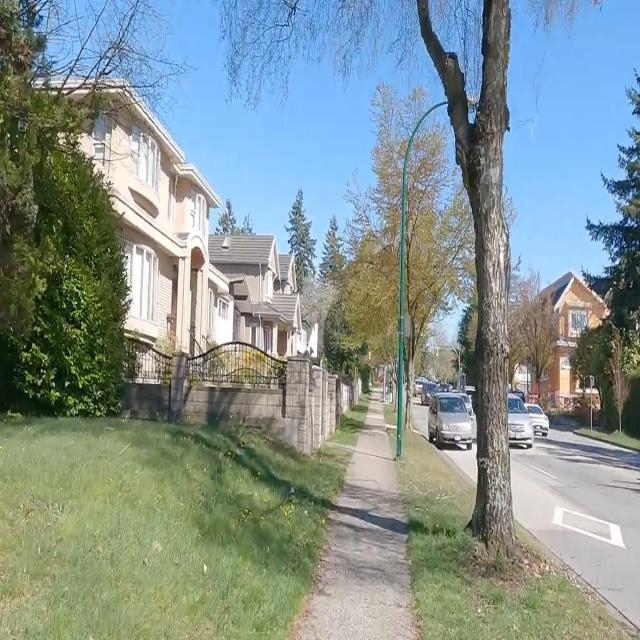Automobile: (427, 392, 475, 448), (508, 394, 533, 448), (526, 403, 548, 437), (421, 383, 437, 405)
Road: (511, 431, 639, 626), (512, 429, 639, 625), (439, 447, 476, 487), (412, 404, 428, 437)
Sidewalk: (296, 397, 416, 639)
